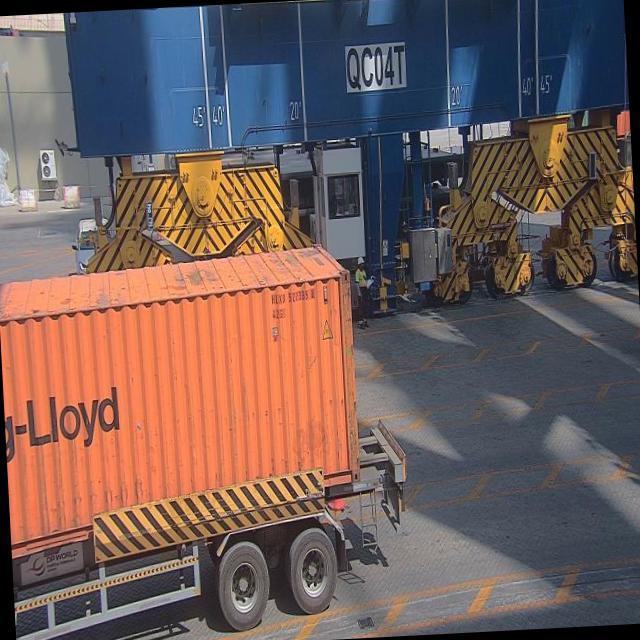Rust: (332, 258, 368, 482)
